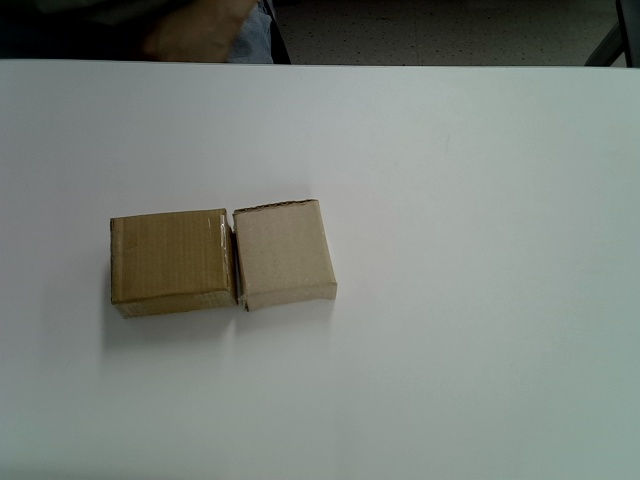normal: (108, 208, 234, 320), (235, 198, 339, 311)
